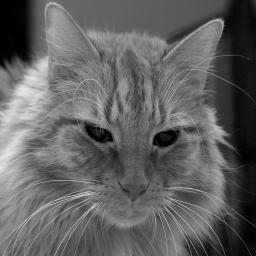catnose: (118, 181, 148, 202)
